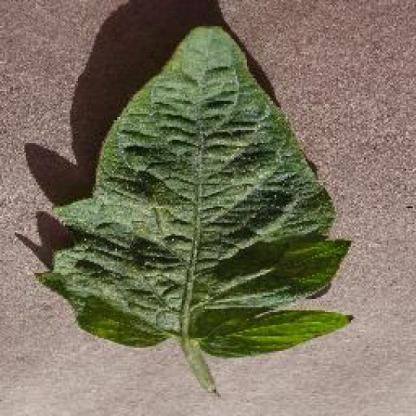Tomato_Spider_Mites: (38, 25, 352, 351)
